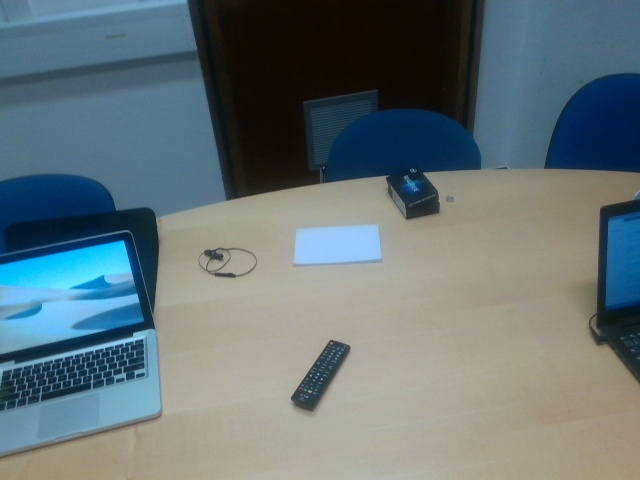remote: (292, 341, 351, 410)
